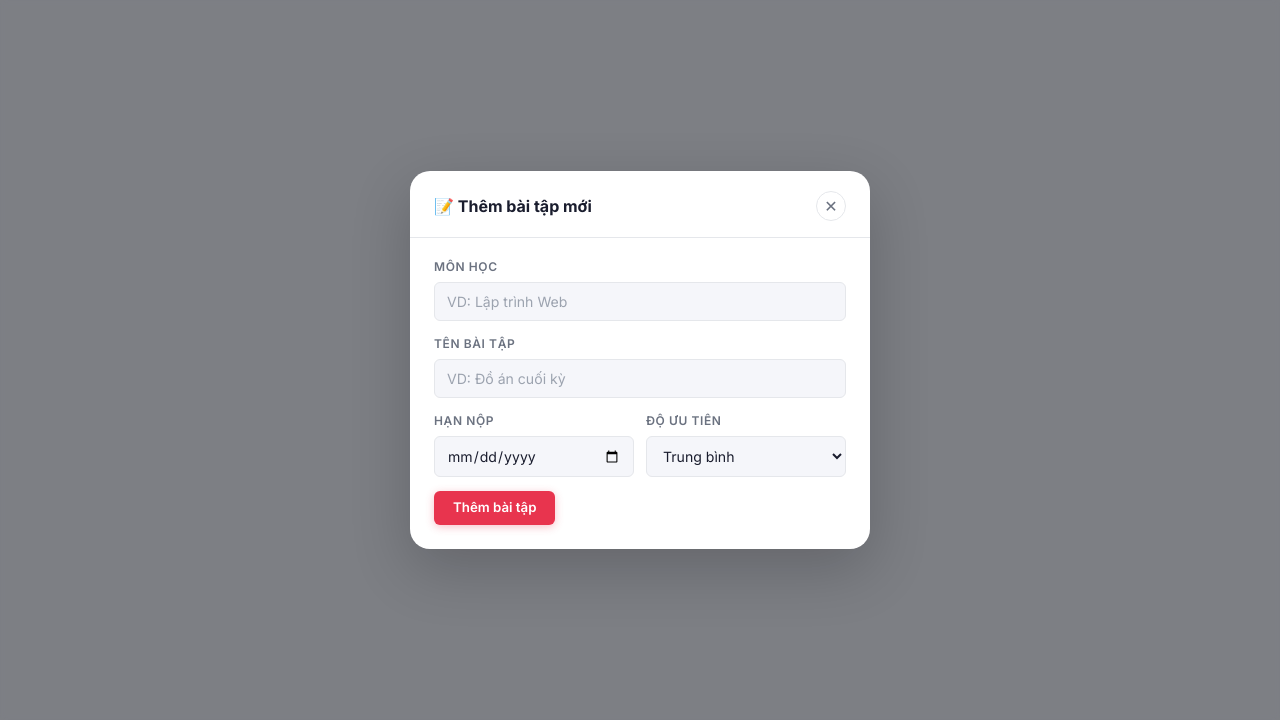
Test: Component Tests — AddModal & AssignmentForm › displays validation error when submitting empty form
Click the button "Thêm bài tập". click: (495, 508)
box: [434, 491, 555, 525]
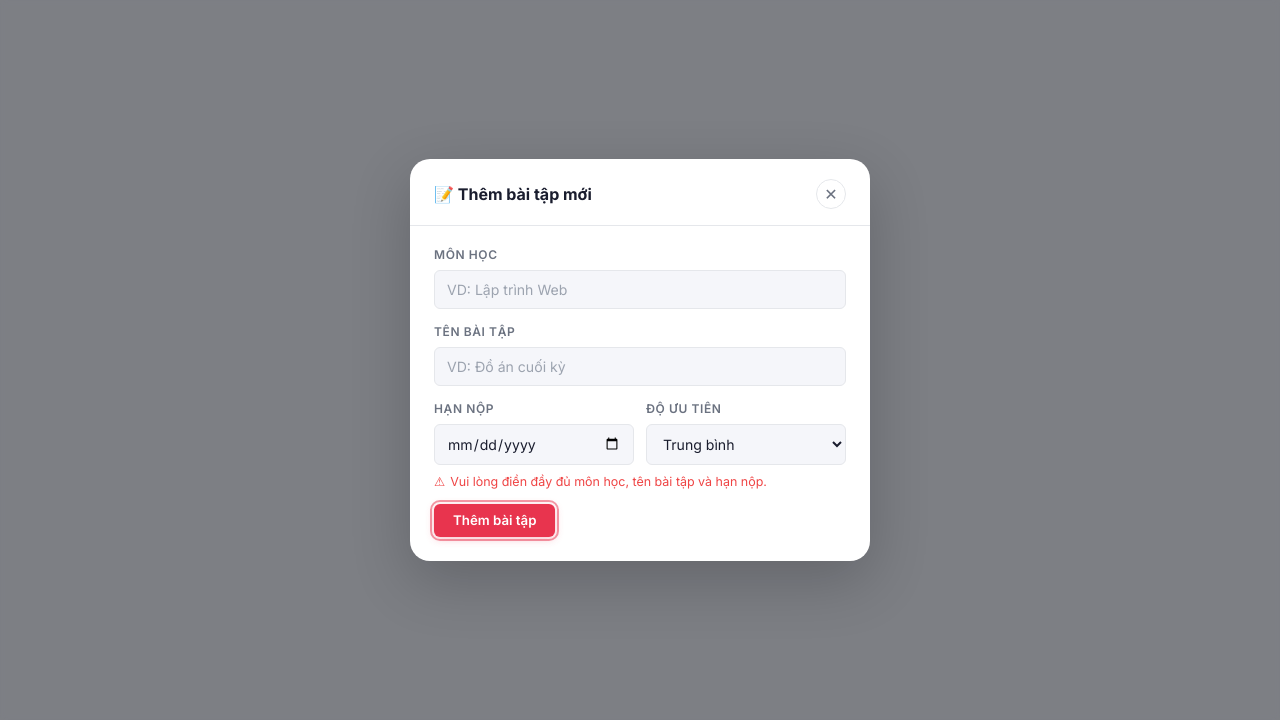
Now the text "Vui lòng điền đầy đủ môn học, tên bài tập và hạn nộp." is shown, box [450, 474, 767, 489]
